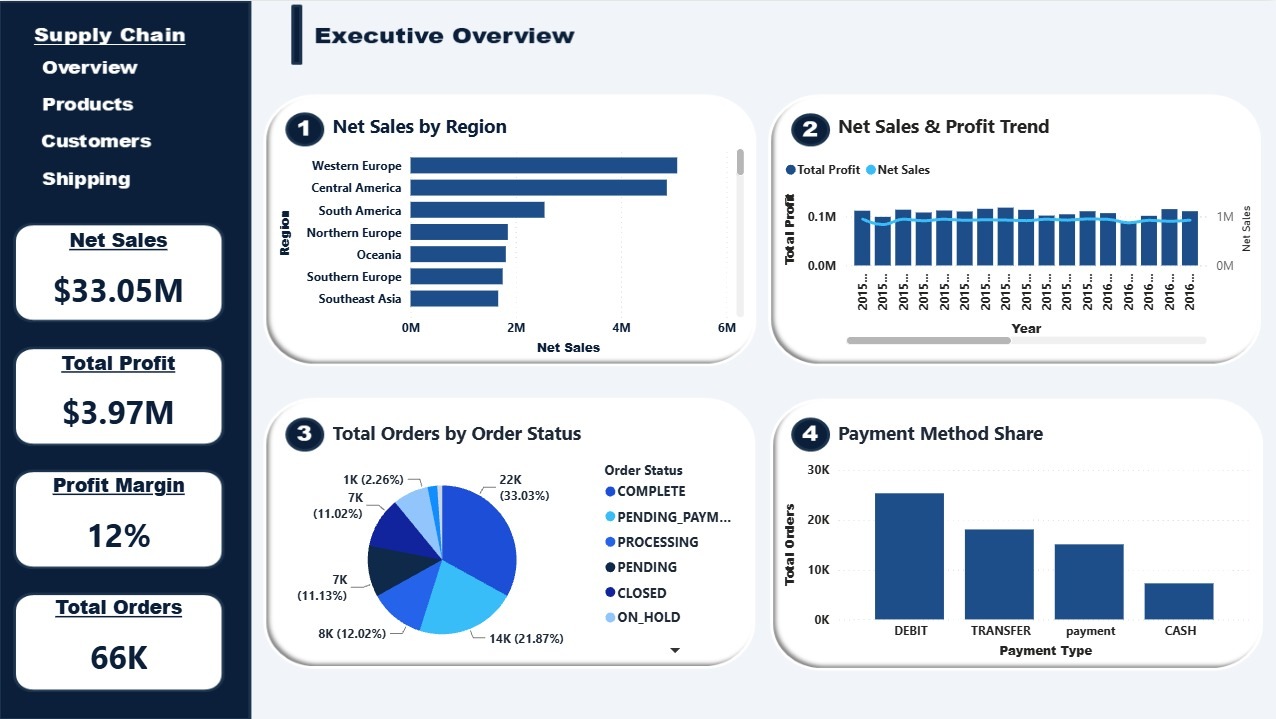

What the dashboard file says about the page in this screenshot:
{"tool":"powerbi","page":{"name":"Overview","canvas":[1280,720],"ordinal":0},"visuals":[{"type":"cardVisual","title":"Net Sales","fields":{"Data":["Gold FactOrders.Net Sales"]},"box":[20.4,226.1,199.2,97.1],"z":0},{"type":"cardVisual","title":"Total Profit ","fields":{"Data":["Gold FactOrders.Total Profit"]},"box":[20.4,350,199.2,97.1],"z":1000},{"type":"cardVisual","title":"Profit Margin","fields":{"Data":["Gold FactOrders.Profit Margin %"]},"box":[20,472,200,96],"z":2000},{"type":"cardVisual","title":"Total Orders","fields":{"Data":["Gold FactOrders.Total Orders"]},"box":[20,594.7,200,96],"z":3000},{"type":"barChart","fields":{"Category":["Gold FactOrders.order_region","Gold DimSalesman.market"],"Y":["Gold FactOrders.Net Sales"]},"box":[276,134.7,476,225.3],"z":4000},{"type":"textbox","box":[329.3,106.7,236,42.7],"z":5000},{"type":"pieChart","fields":{"Category":["Gold FactOrders.order_status"],"Y":["Gold FactOrders.Total Orders"]},"box":[276,456,476,208],"z":6000},{"type":"textbox","box":[329.3,414.7,273.3,41.3],"z":7000},{"type":"columnChart","fields":{"Category":["Gold FactOrders.payment_type"],"Y":["Gold FactOrders.Total Orders"]},"box":[782.7,456,478.7,208],"z":8000},{"type":"textbox","box":[836,414.7,277.3,41.3],"z":9000},{"type":"lineClusteredColumnComboChart","fields":{"Category":["Gold DimDate.year_month"],"Y":["Gold FactOrders.Total Profit"],"Y2":["Gold FactOrders.Net Sales"]},"box":[782.7,149.3,478.7,200],"z":10000},{"type":"textbox","box":[836,106.7,236,49.3],"z":11000}]}

Visuals, with their boxes in screenshot pixels (x1, y1, x2, y2), scaled from the page's 1280x720 canvas onto the 1276x719 screenshot:
"Net Sales" cardVisual: (20,226,219,323)
"Total Profit " cardVisual: (20,350,219,446)
"Profit Margin" cardVisual: (20,471,219,567)
"Total Orders" cardVisual: (20,594,219,690)
barChart - Gold FactOrders.order_region x Gold DimSalesman.market: (275,135,750,360)
textbox: (328,107,564,149)
pieChart - Gold FactOrders.order_status x Gold FactOrders.Total Orders: (275,455,750,663)
textbox: (328,414,601,455)
columnChart - Gold FactOrders.payment_type x Gold FactOrders.Total Orders: (780,455,1257,663)
textbox: (833,414,1110,455)
lineClusteredColumnComboChart - Gold DimDate.year_month x Gold FactOrders.Total Profit: (780,149,1257,349)
textbox: (833,107,1069,156)
